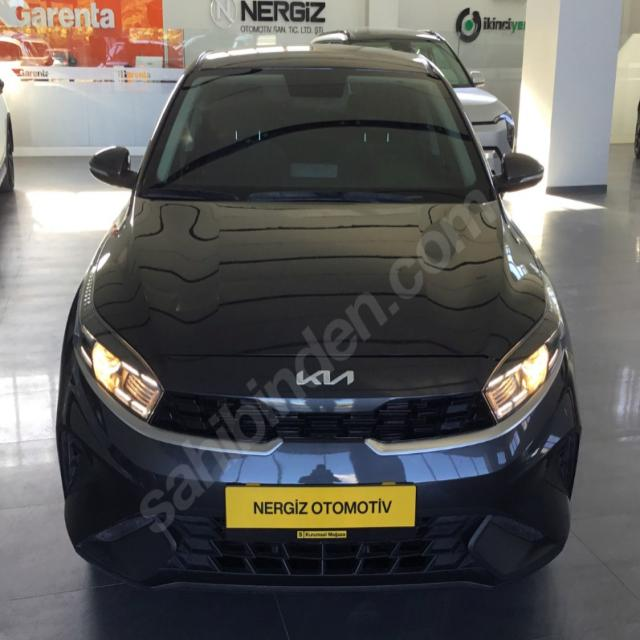kia: (292, 360, 360, 394)
